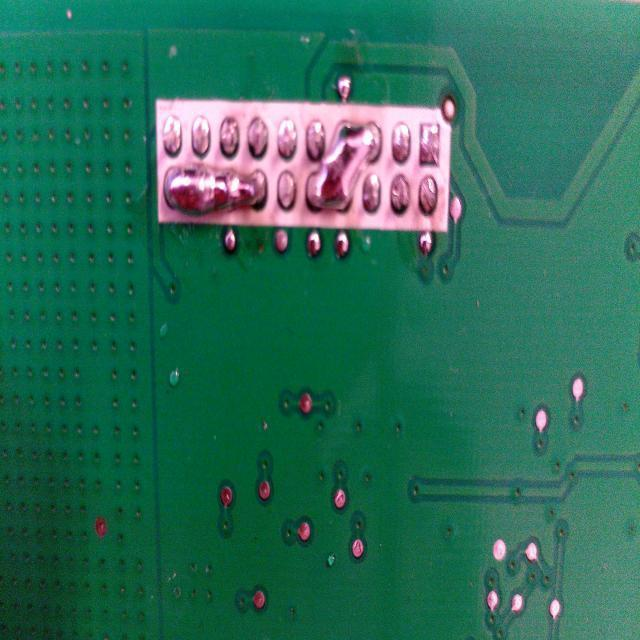Soldering shorted: (302, 117, 383, 220), (161, 162, 267, 220)
